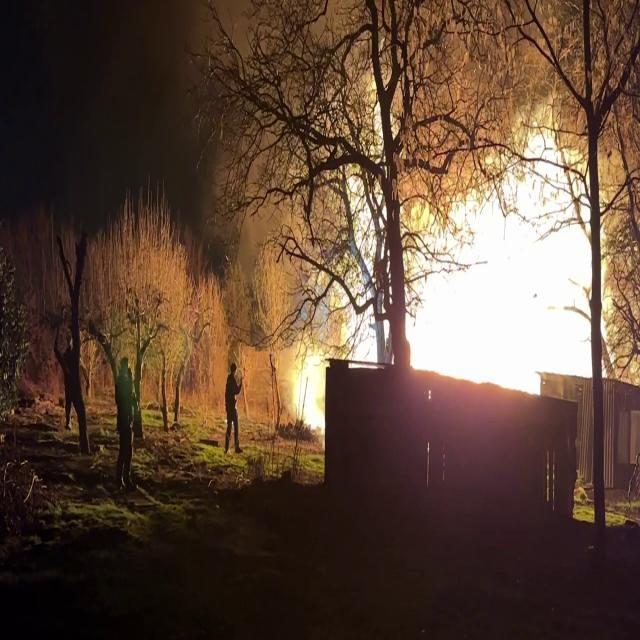Fire: (398, 103, 612, 394), (292, 333, 334, 438)
